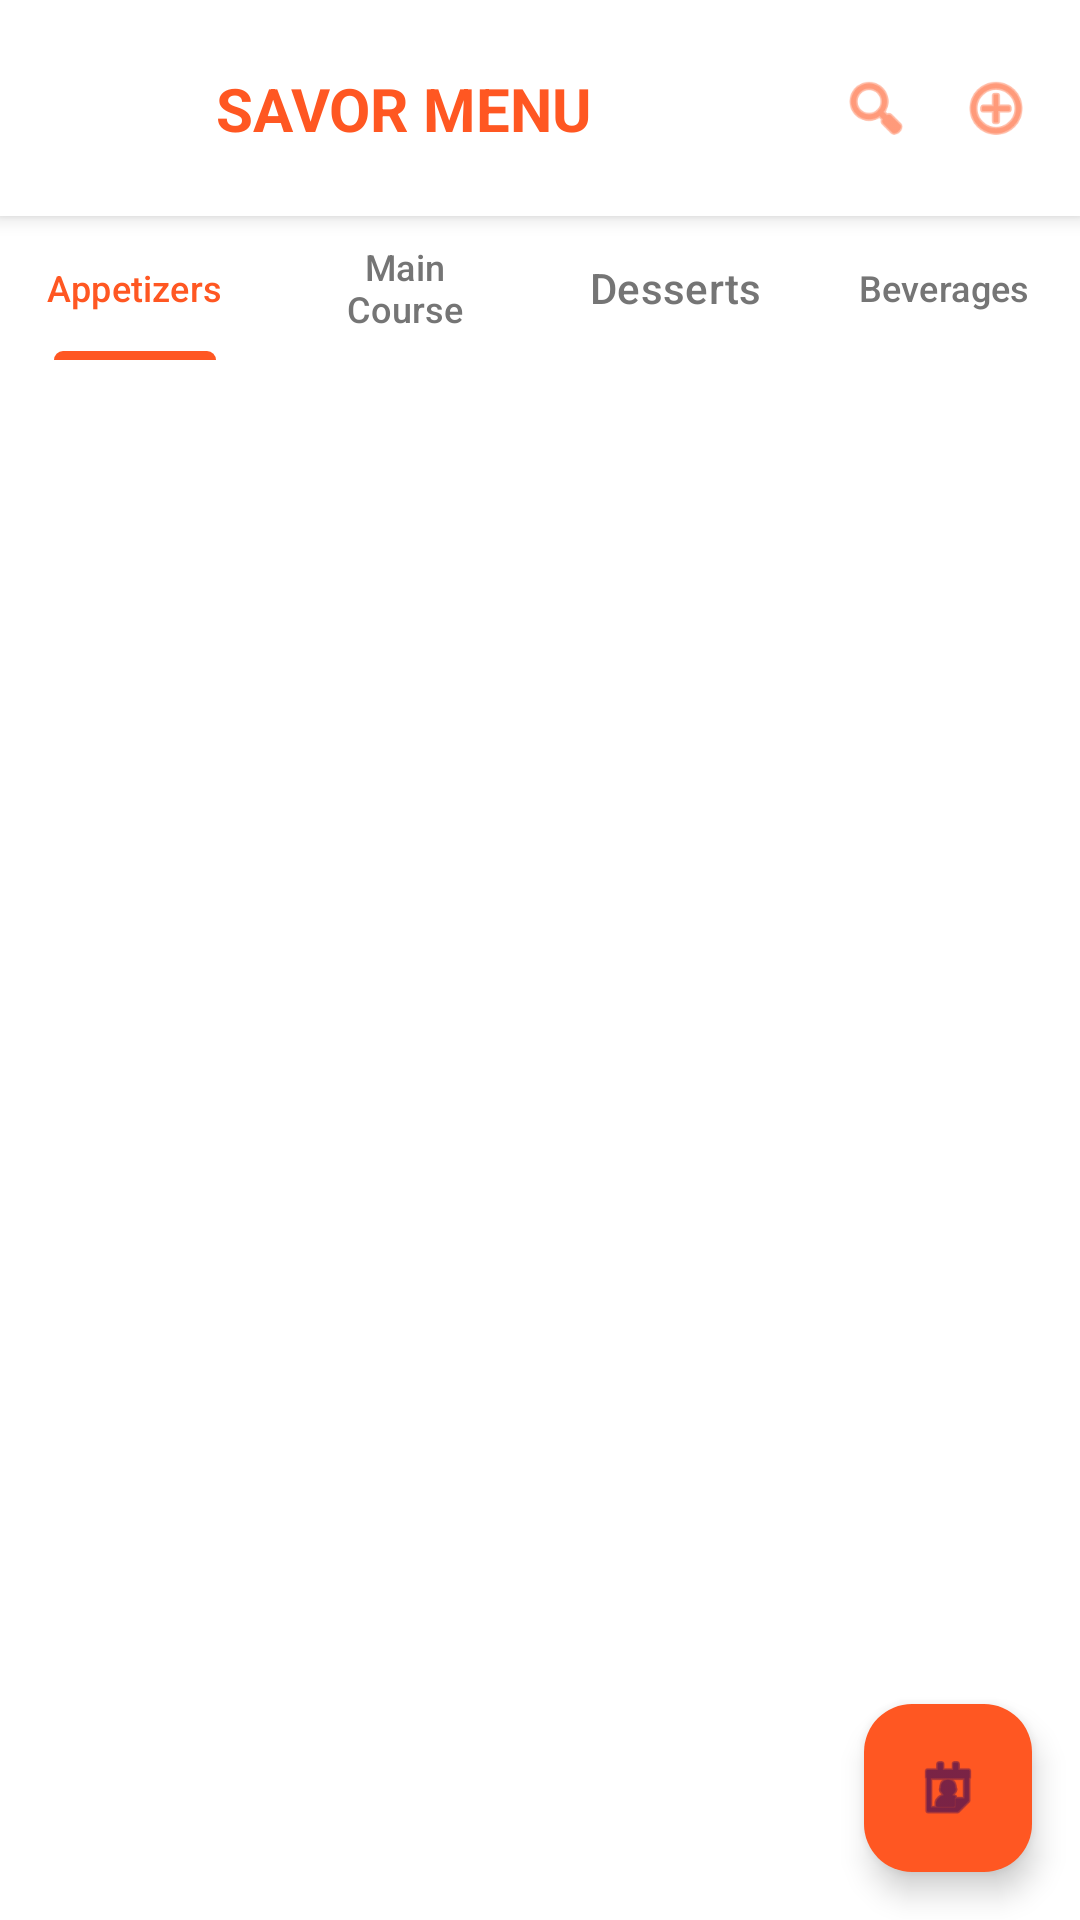

Icons on this 1080*1920 Android screen, each with the point to tap as (x,y):
Reserve Table: (948,1788)
Search Icon: (876,108)
